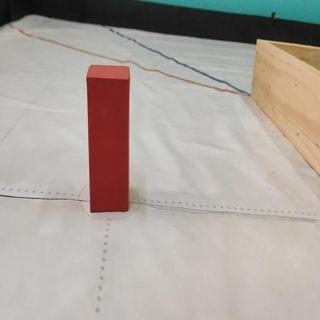redbox: (86, 63, 132, 213)
